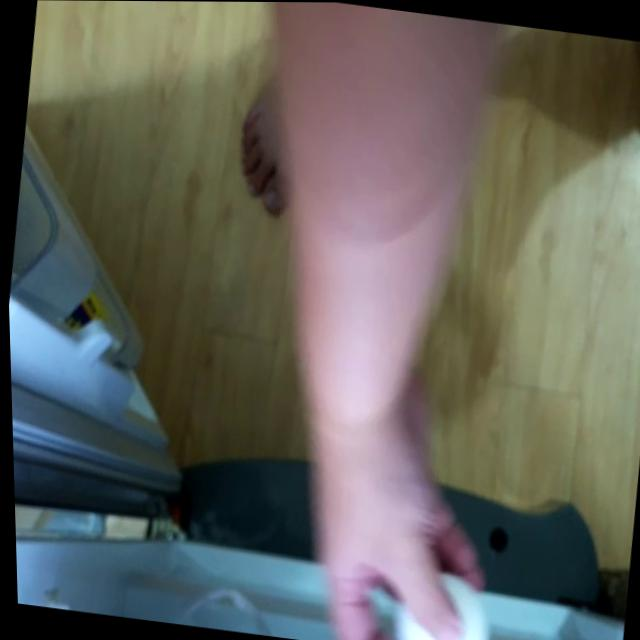egg: (383, 566, 492, 640)
